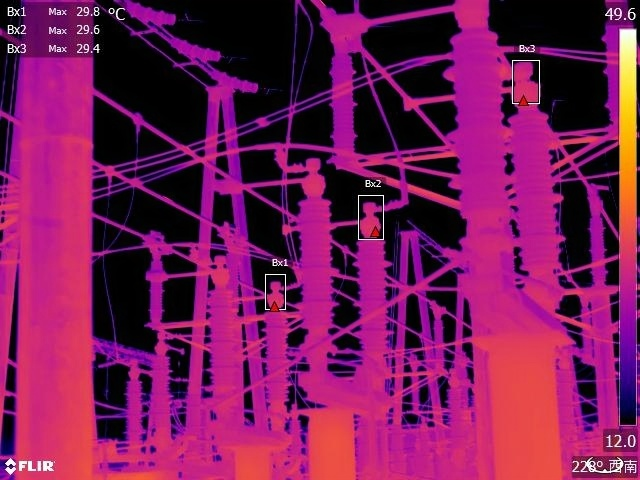clamp: (125, 103, 148, 130), (99, 160, 119, 190)
insulator: (114, 1, 183, 31), (168, 29, 225, 62), (208, 64, 263, 96)
post insulator: (446, 23, 514, 255), (505, 101, 566, 283), (293, 190, 341, 351), (354, 228, 395, 366), (207, 281, 242, 430), (325, 42, 364, 158), (262, 302, 289, 418), (151, 355, 179, 440), (143, 248, 167, 330), (122, 375, 147, 449), (587, 214, 609, 287)
switch: (401, 62, 548, 119), (207, 151, 332, 206), (314, 1, 508, 30), (162, 252, 235, 293)
